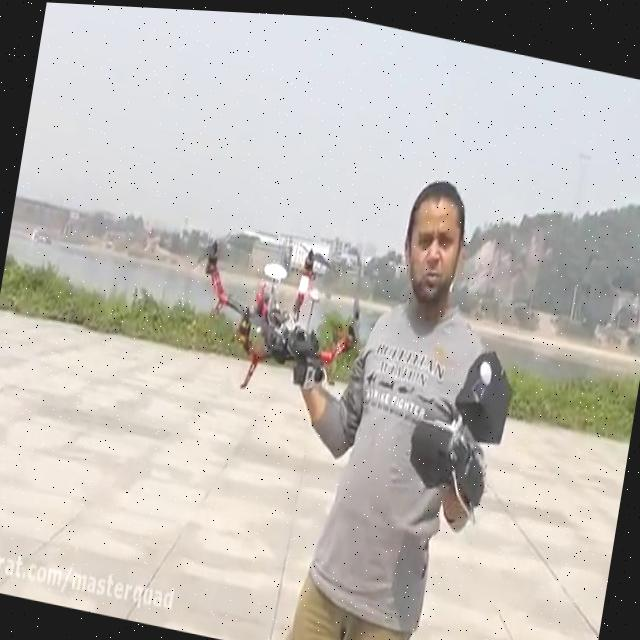drone: (178, 210, 376, 412)
